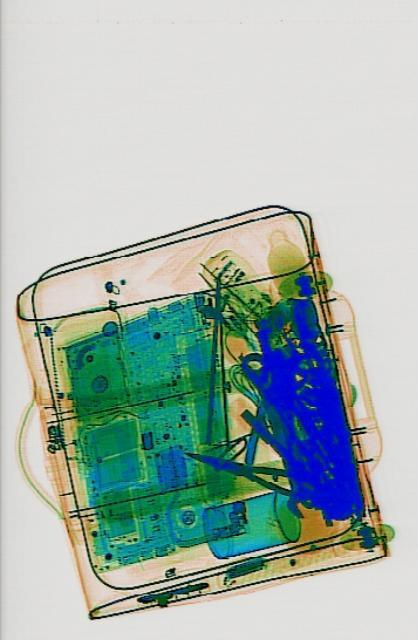Pliers: (182, 437, 294, 497)
